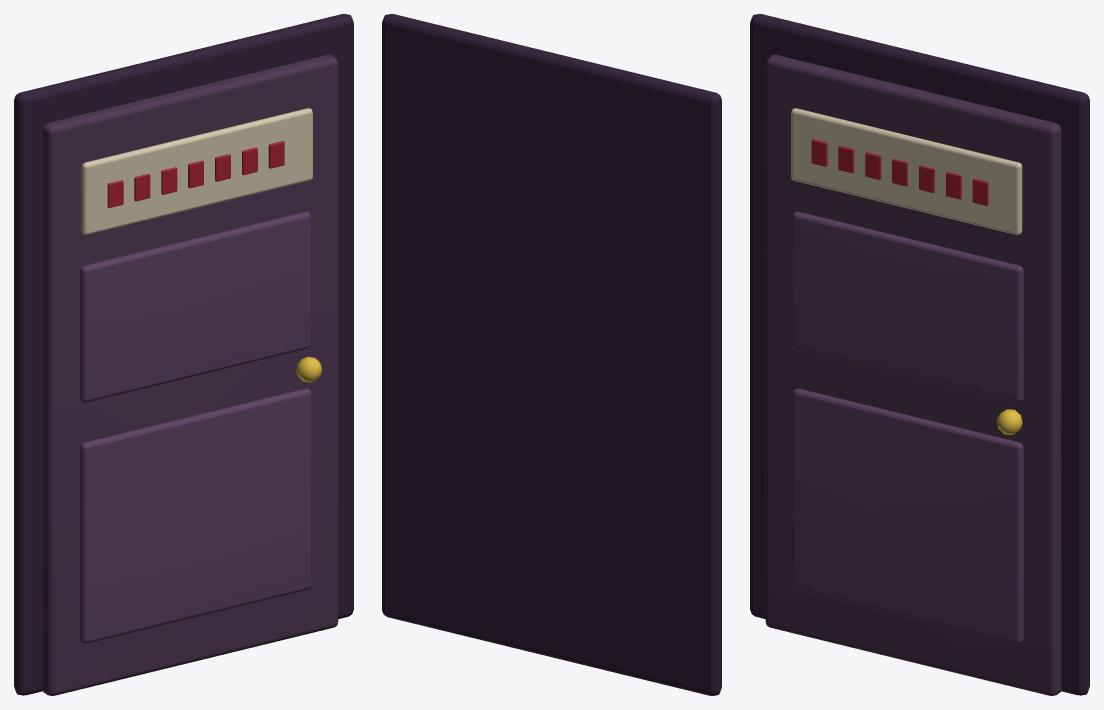
Rendered from furn_arcade_backdoor.glb.
3 renders of one model, left to right at view 1: azimuth 30°, elevation 25°; view 2: azimuth 150°, elevation 25°; view 3: azimuth 330°, elevation 25°, orthographic.
Visible parts, largest first — view 1: furn_arcade_backdoor_main; view 2: furn_arcade_backdoor_main; view 3: furn_arcade_backdoor_main.
Part boxes in pixels (x1,y1,x2,y2): furn_arcade_backdoor_main: (14, 14, 353, 695); furn_arcade_backdoor_main: (382, 14, 721, 695); furn_arcade_backdoor_main: (750, 14, 1089, 695).
Size of the model in its own units: 0.88 by 1.5 by 0.13.
